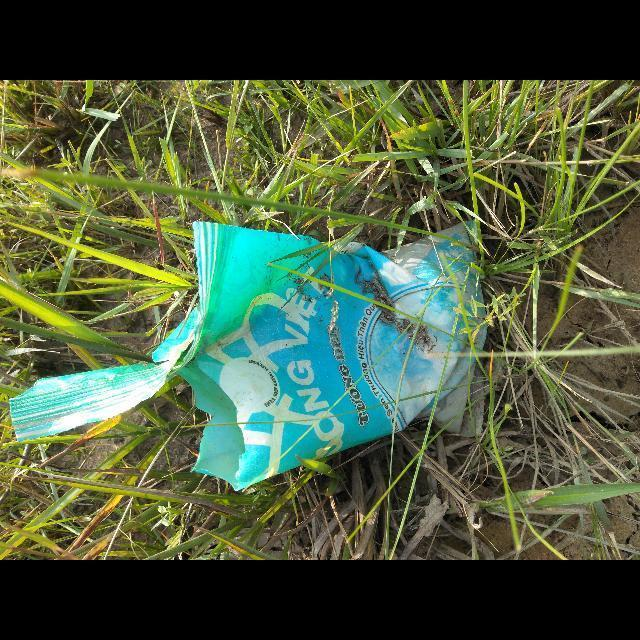Plastic: (9, 220, 487, 490)
